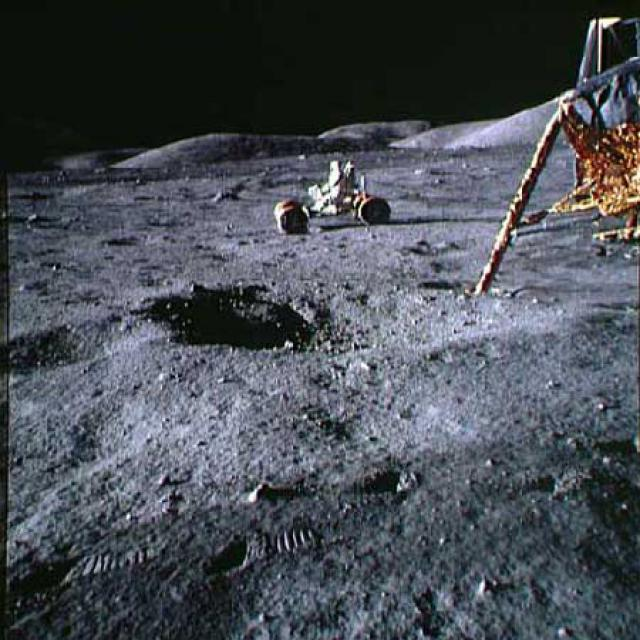artifact: (464, 7, 638, 297), (256, 157, 399, 231)
crater: (154, 278, 500, 354), (3, 314, 154, 364), (100, 228, 164, 246)
